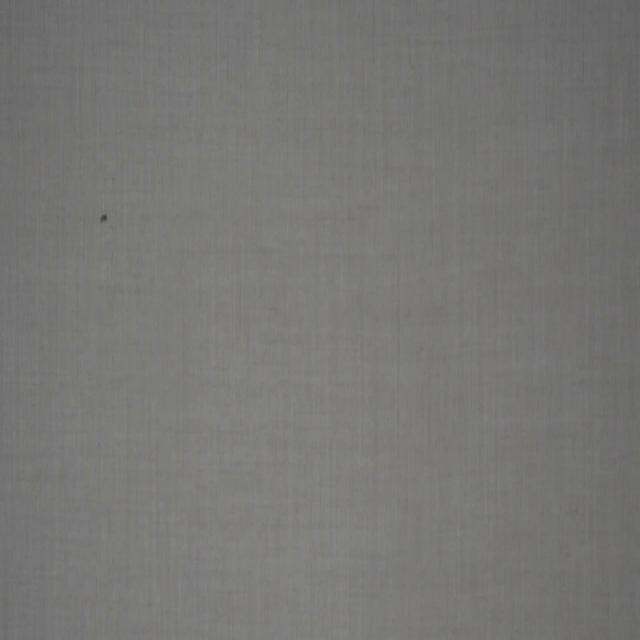dirty: (99, 212, 109, 227)
